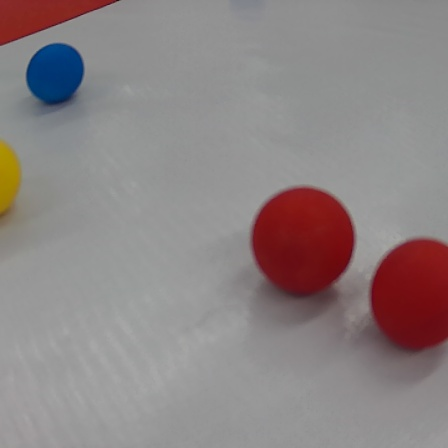blue: (26, 43, 86, 104)
red: (248, 185, 358, 296), (368, 237, 448, 350)
red_base: (0, 0, 127, 44)
yellow: (0, 137, 28, 214)
